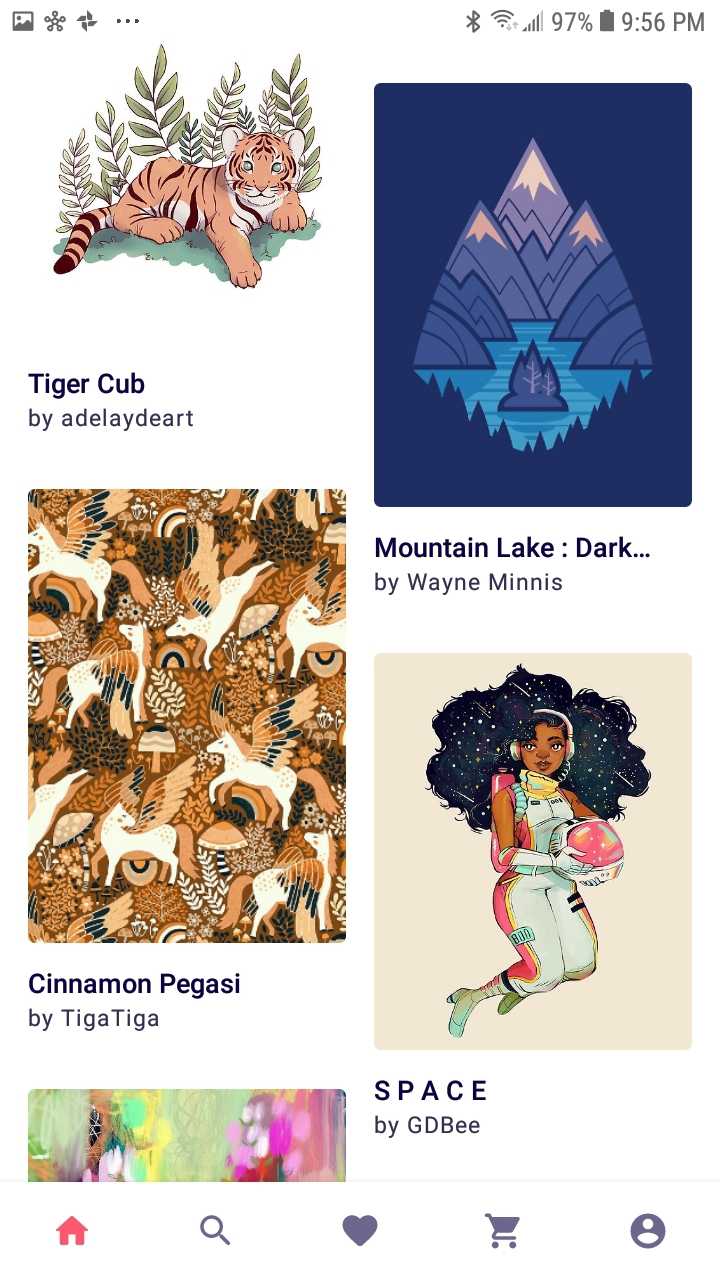Icon: (484, 1212, 520, 1249), (630, 1213, 666, 1249), (343, 1214, 379, 1246), (56, 1216, 89, 1246), (201, 1215, 231, 1245)
Image: (29, 489, 347, 944), (374, 83, 693, 508), (374, 653, 692, 1051), (53, 45, 322, 290), (29, 1089, 347, 1182)
Text: (374, 536, 650, 596), (29, 972, 241, 1032), (28, 372, 194, 432), (374, 1079, 487, 1139)
UpperTaskBar: (1, 1, 720, 34)
